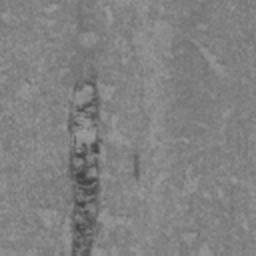Oxide scale of plate system: (64, 76, 104, 256)
